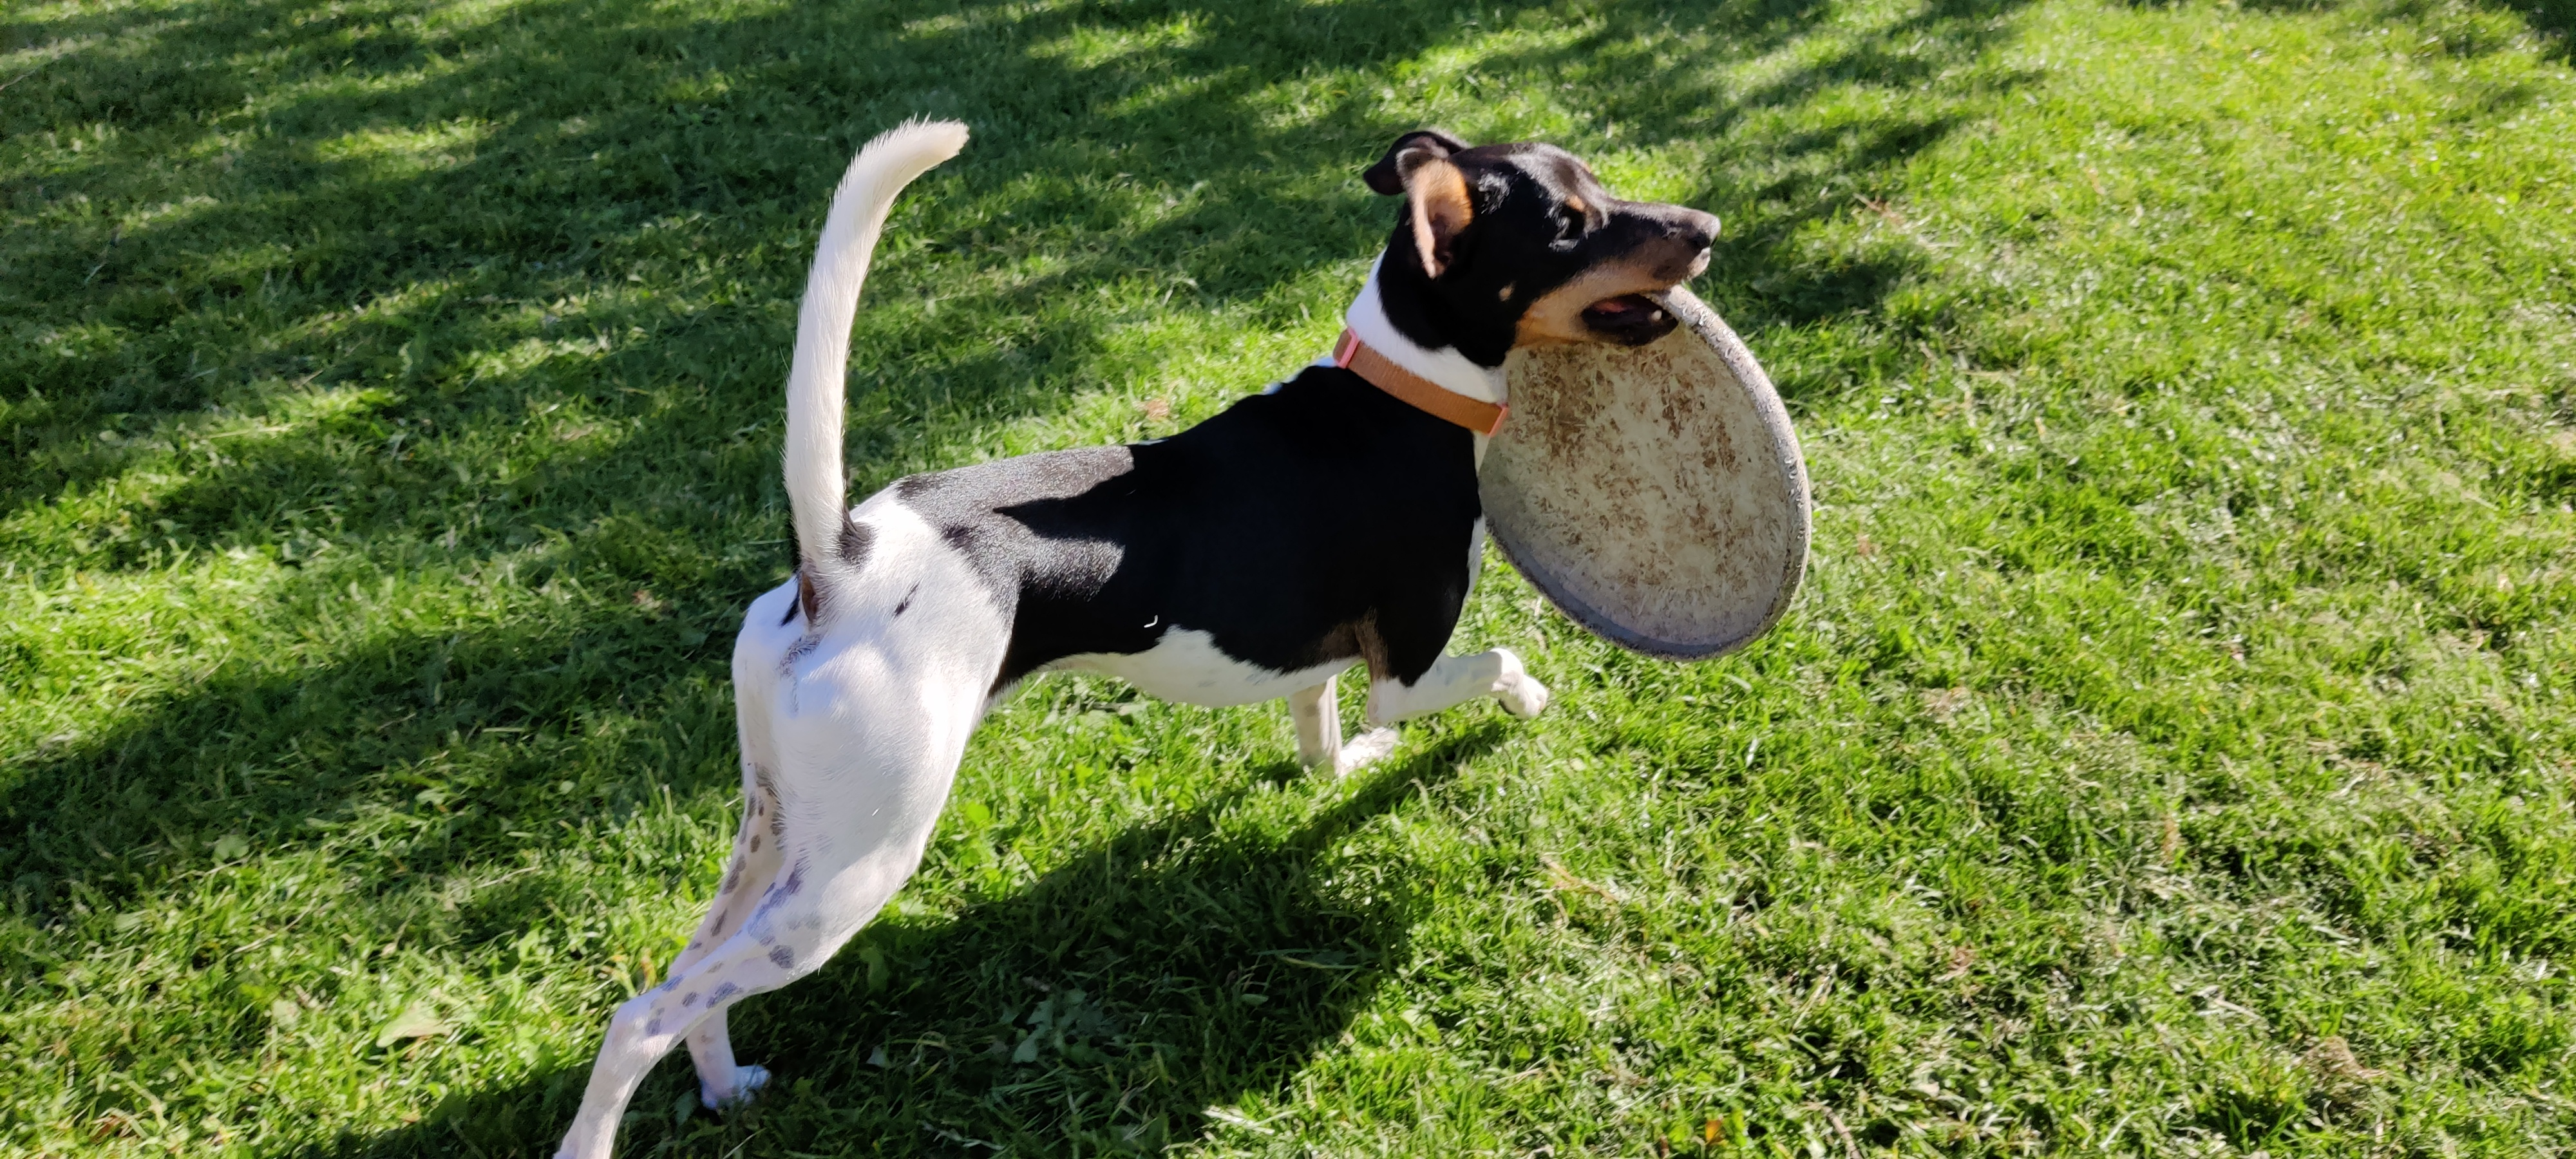Dog: (540, 100, 1730, 1159)
